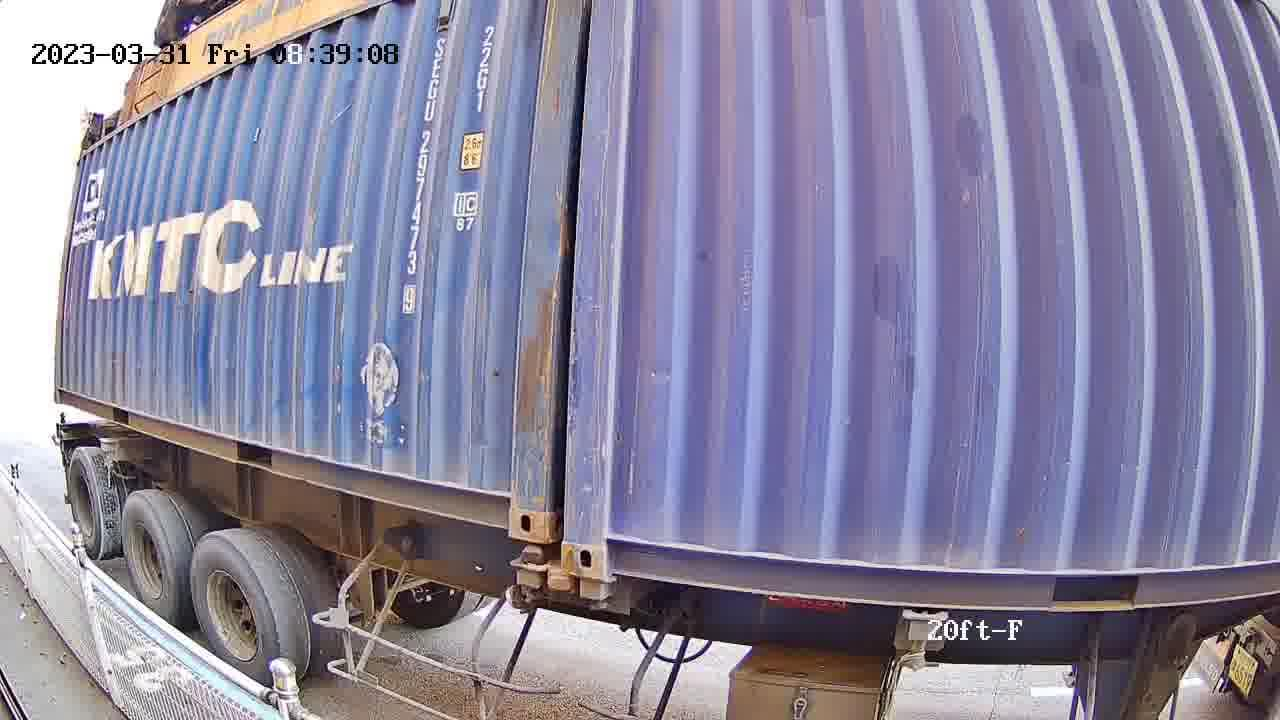Cone: (512, 545, 545, 605), (575, 579, 613, 613)
Hole_L: (564, 506, 649, 580)
Hole_R: (472, 465, 547, 543)
Tire: (188, 538, 283, 688), (123, 494, 179, 619), (66, 450, 110, 558)
